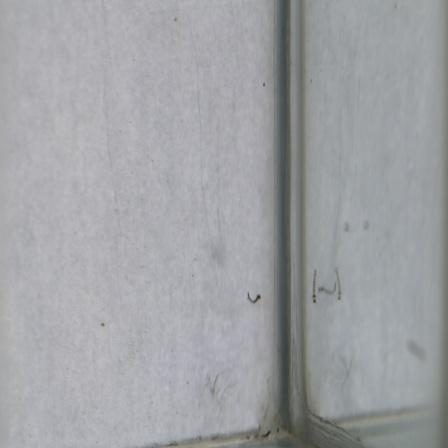Jentik-Nyamuk: (306, 265, 321, 309), (242, 287, 263, 310)
